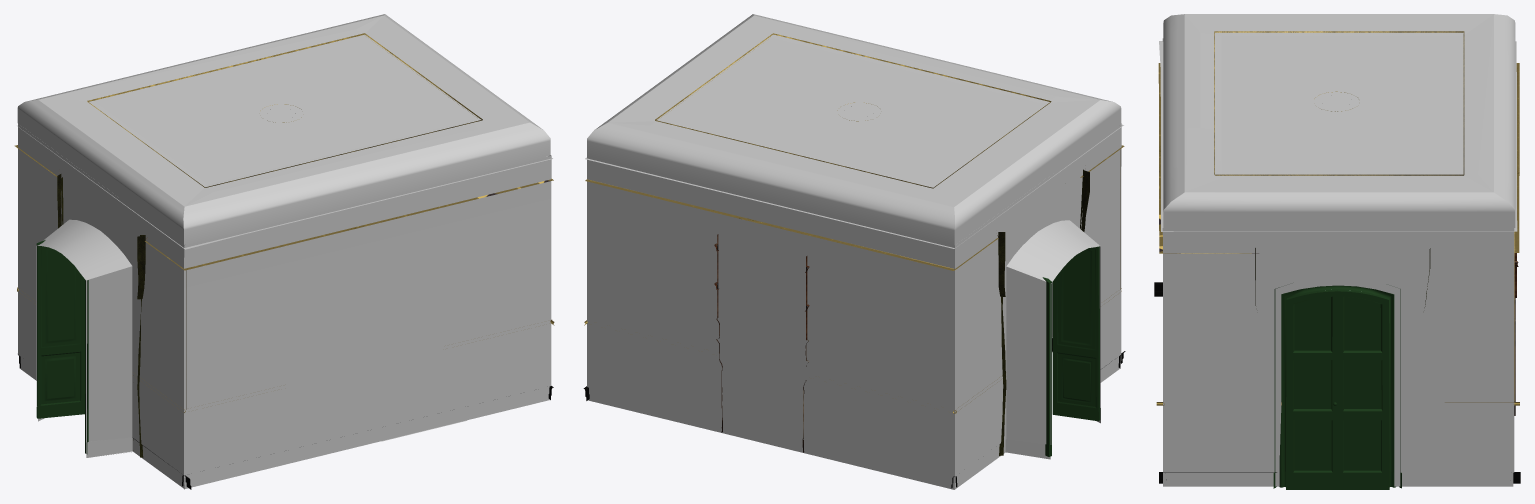
Rendered from SaloVaixells.fbx.
3 renders of one model, left to right at view 1: azimuth 30°, elevation 25°; view 2: azimuth 150°, elevation 25°; view 3: azimuth 270°, elevation 25°, orthographic. The views are drawn at different scales.
Visible parts, largest first — view 1: Salo Verd.008, Salo Verd._Sostre.003, Porta_fusta_PE_001.011, Motllura_sostre.003, Cortina_1.028, Motllura Superior_001.009, Motllura Superior_001.008; view 2: Salo Verd.008, Salo Verd._Sostre.003, Porta_fusta_PD_001.010, Cortina_1.028, Motllura_sostre.003, Motllura Superior_001.008, Porta_fusta_PE_001.011, Motllura Superior_001.009; view 3: Salo Verd._Sostre.003, Salo Verd.008, Porta_fusta_PE_001.005, Porta_fusta_Marc_001.009, Porta_fusta_Marc_001.014, Motllura_sostre.003, Motllura Superior_001.009, Motllura Superior_001.008.
Part boxes in pixels (<box>): Salo Verd.008: <box>18,124,551,489</box>; Salo Verd._Sostre.003: <box>17,14,550,244</box>; Porta_fusta_PE_001.011: <box>36,240,85,418</box>; Motllura_sostre.003: <box>87,33,482,187</box>; Cortina_1.028: <box>57,172,147,457</box>; Motllura Superior_001.009: <box>17,125,552,249</box>; Motllura Superior_001.008: <box>14,145,553,270</box>; Salo Verd.008: <box>587,123,1121,489</box>; Salo Verd._Sostre.003: <box>587,14,1121,245</box>; Porta_fusta_PD_001.010: <box>1052,246,1100,421</box>; Cortina_1.028: <box>997,169,1089,455</box>; Motllura_sostre.003: <box>655,33,1051,188</box>; Motllura Superior_001.008: <box>585,145,1124,270</box>; Porta_fusta_PE_001.011: <box>1042,277,1051,456</box>; Motllura Superior_001.009: <box>585,124,1123,248</box>; Salo Verd._Sostre.003: <box>1163,14,1515,227</box>; Salo Verd.008: <box>1162,38,1514,486</box>; Porta_fusta_PE_001.005: <box>1337,289,1389,489</box>; Porta_fusta_Marc_001.009: <box>1274,289,1401,489</box>; Porta_fusta_Marc_001.014: <box>1273,285,1401,488</box>; Motllura_sostre.003: <box>1214,31,1464,175</box>; Motllura Superior_001.009: <box>1159,41,1517,231</box>; Motllura Superior_001.008: <box>1158,63,1519,253</box>.
Bounding box in the file's own units: 776 × 498 × 567.
